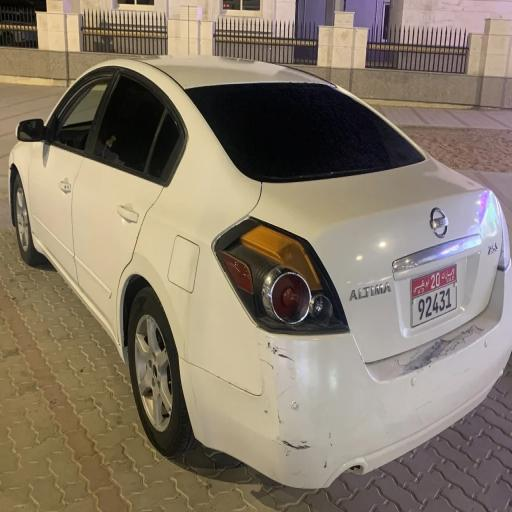license-plates: (412, 264, 457, 328)
